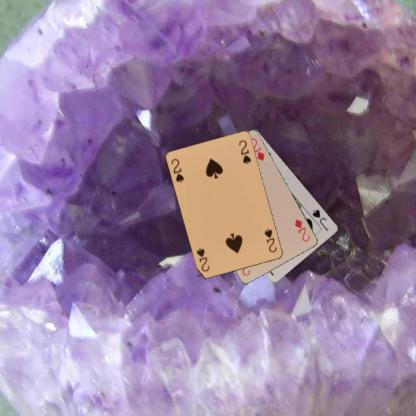2d: (292, 216, 312, 243)
2s: (168, 156, 186, 184), (262, 226, 278, 254)
Js: (310, 207, 329, 232)
